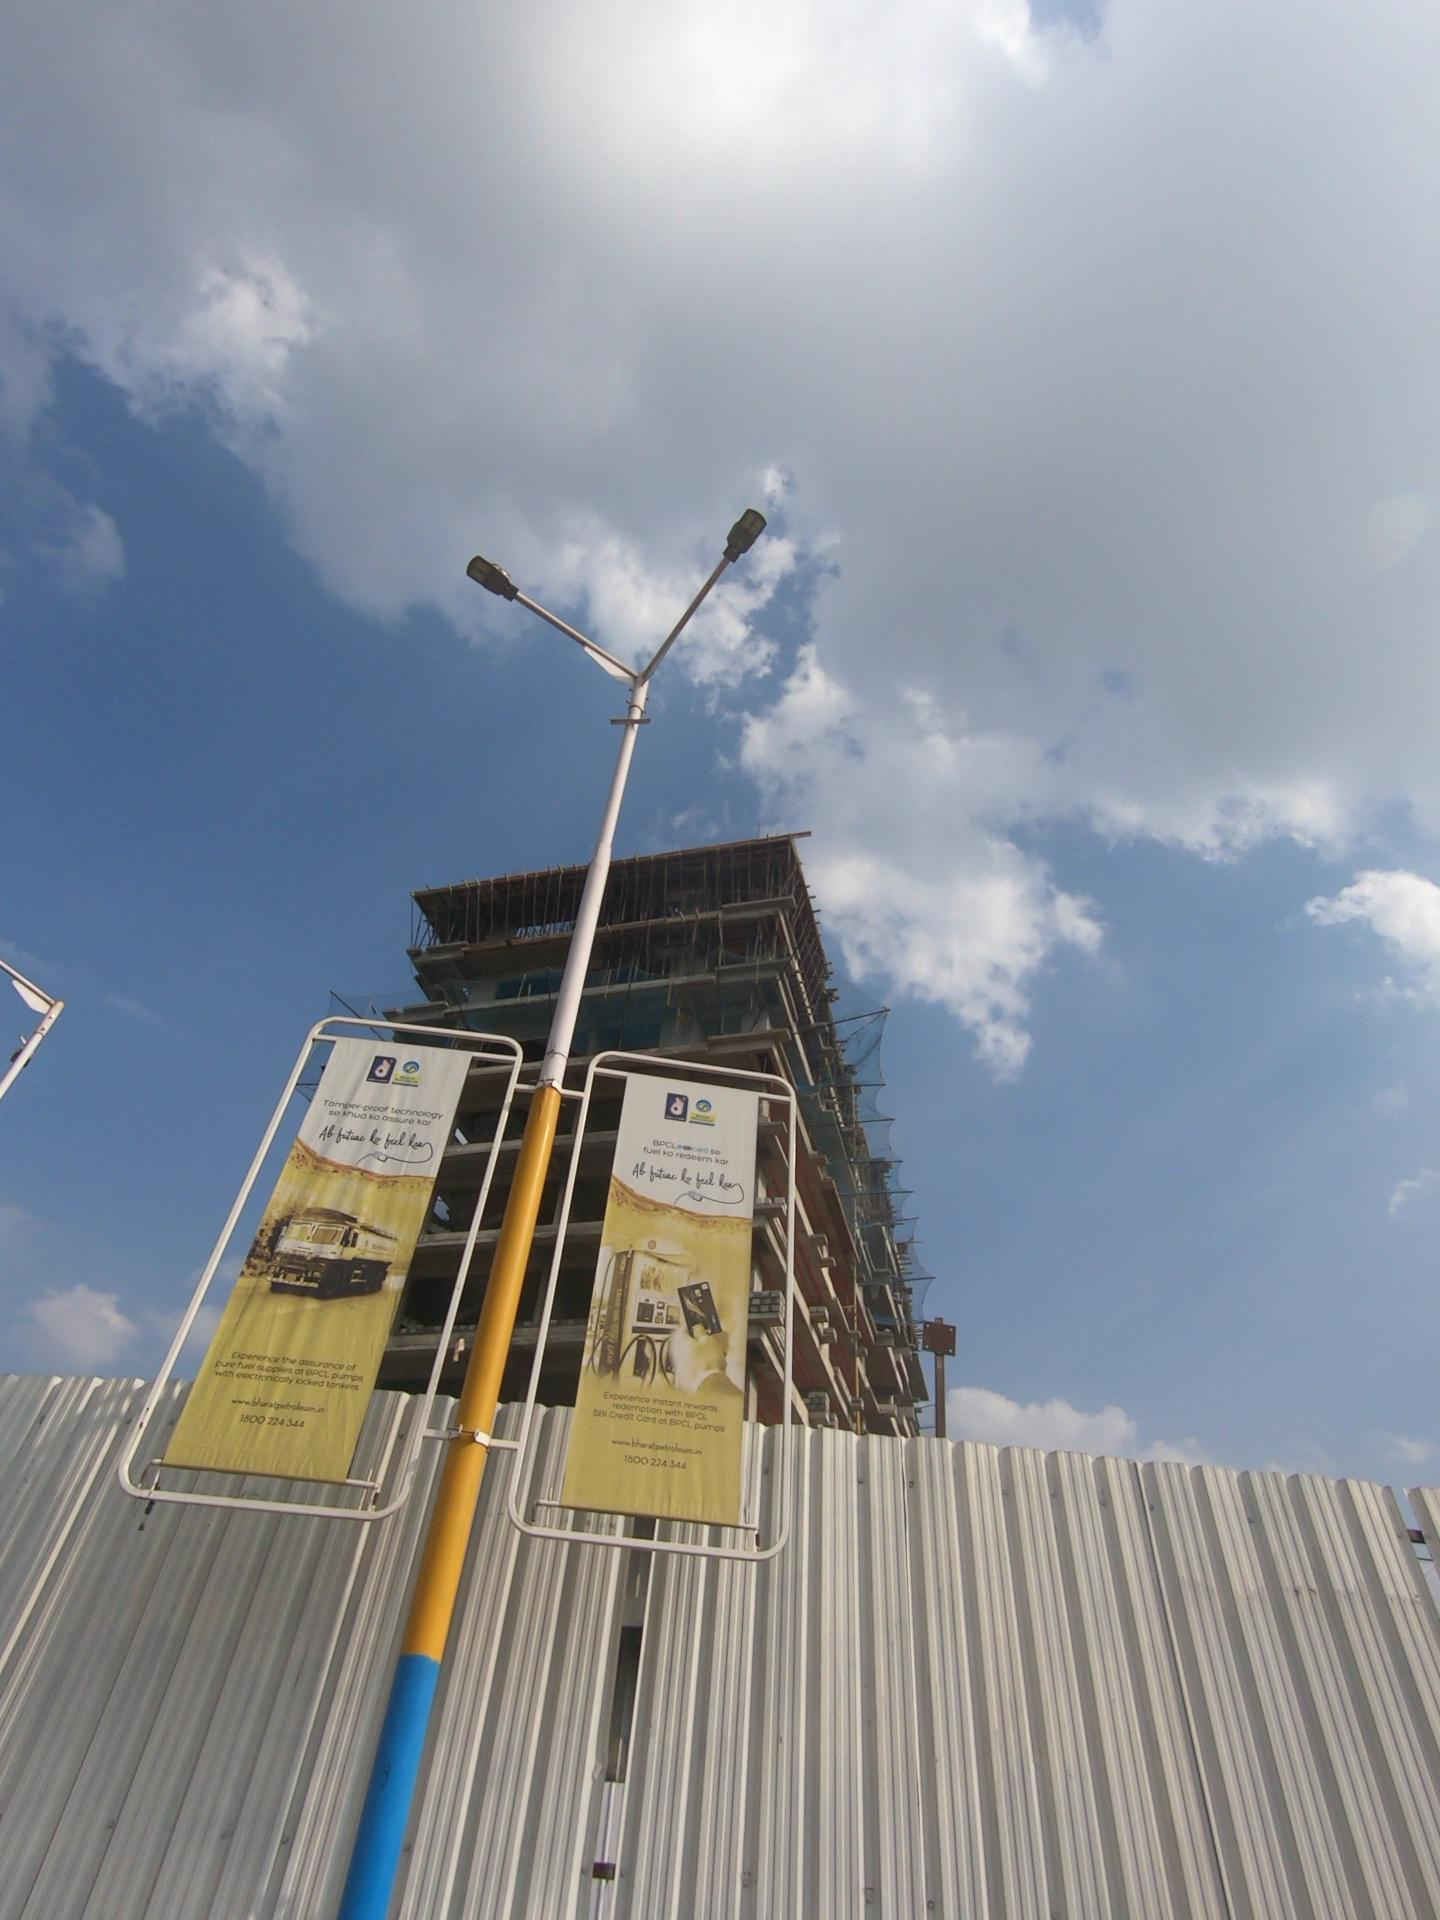off: (395, 451, 839, 679)
